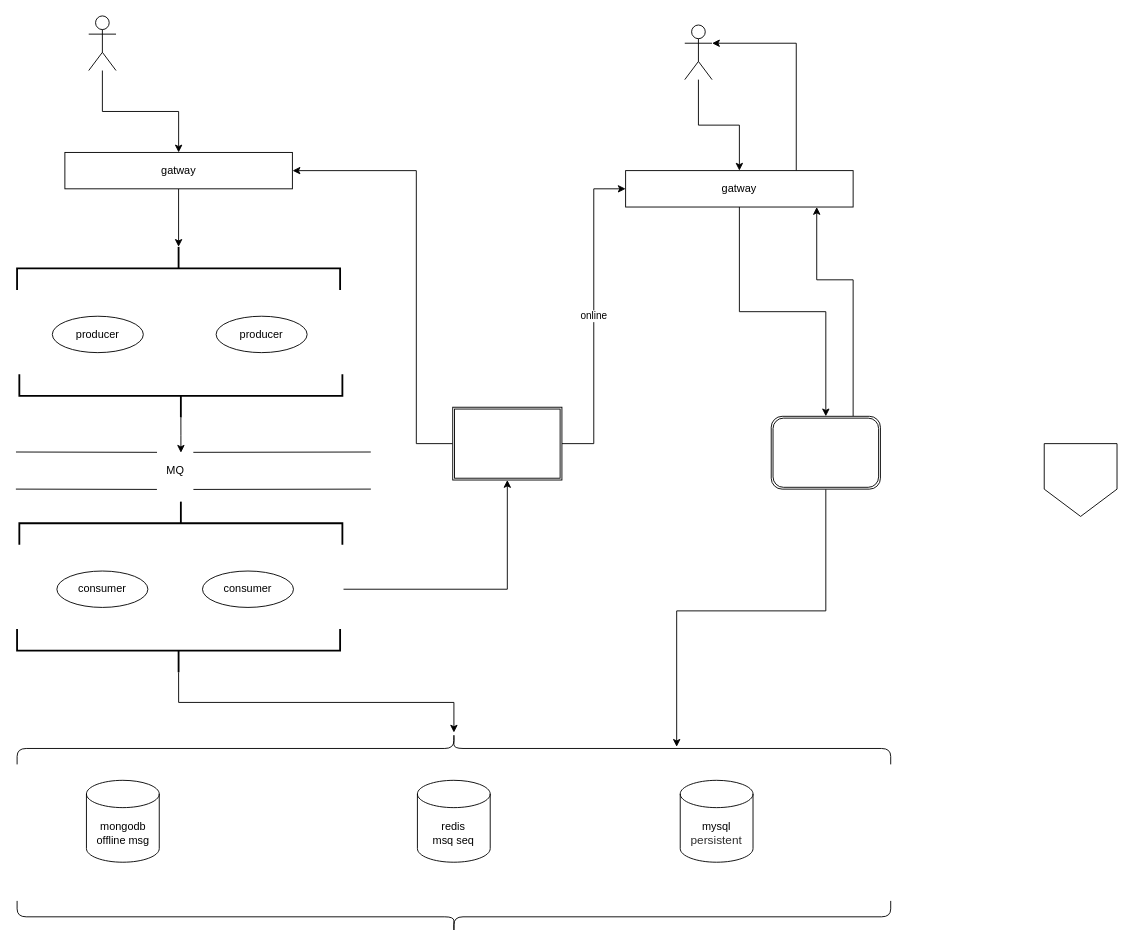
The diagram is 1134 pixels wide and 949 high, and some of its shapes have lost their labels. Each missing label, with the centre of its shape:
"client A" belongs at point 102,43.
"client B" belongs at point 698,52.
"msg sync" belongs at point 825,452.
"pusher" belongs at point 507,443.
"web manage" belongs at point 1080,479.
